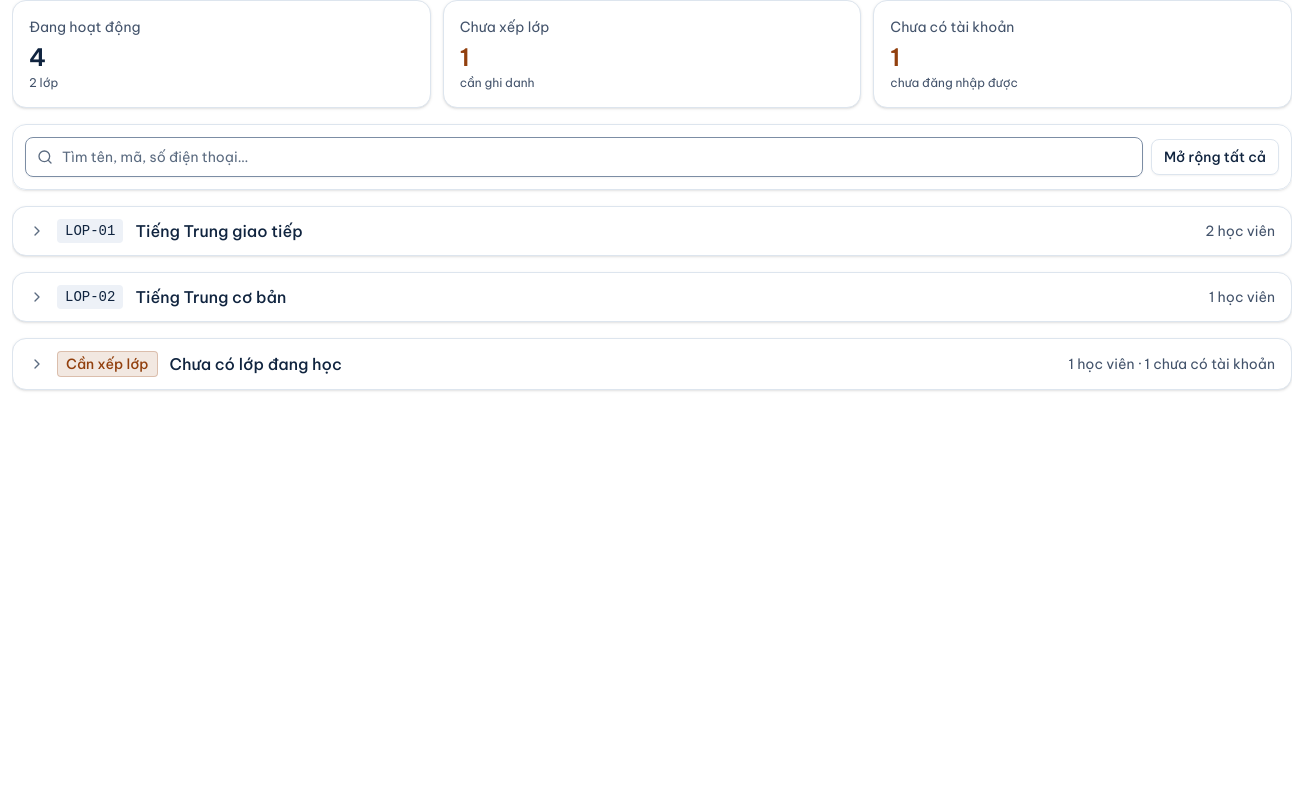
Scenario: danh bạ học viên gom theo lớp › không khớp gì thì nói rõ và cho đường lùi
The image size is (1304, 800).
In the search field named "Tìm học viên": coordinates (584, 157) [25,137,1143,177], type "khong-ai-ten-nay"
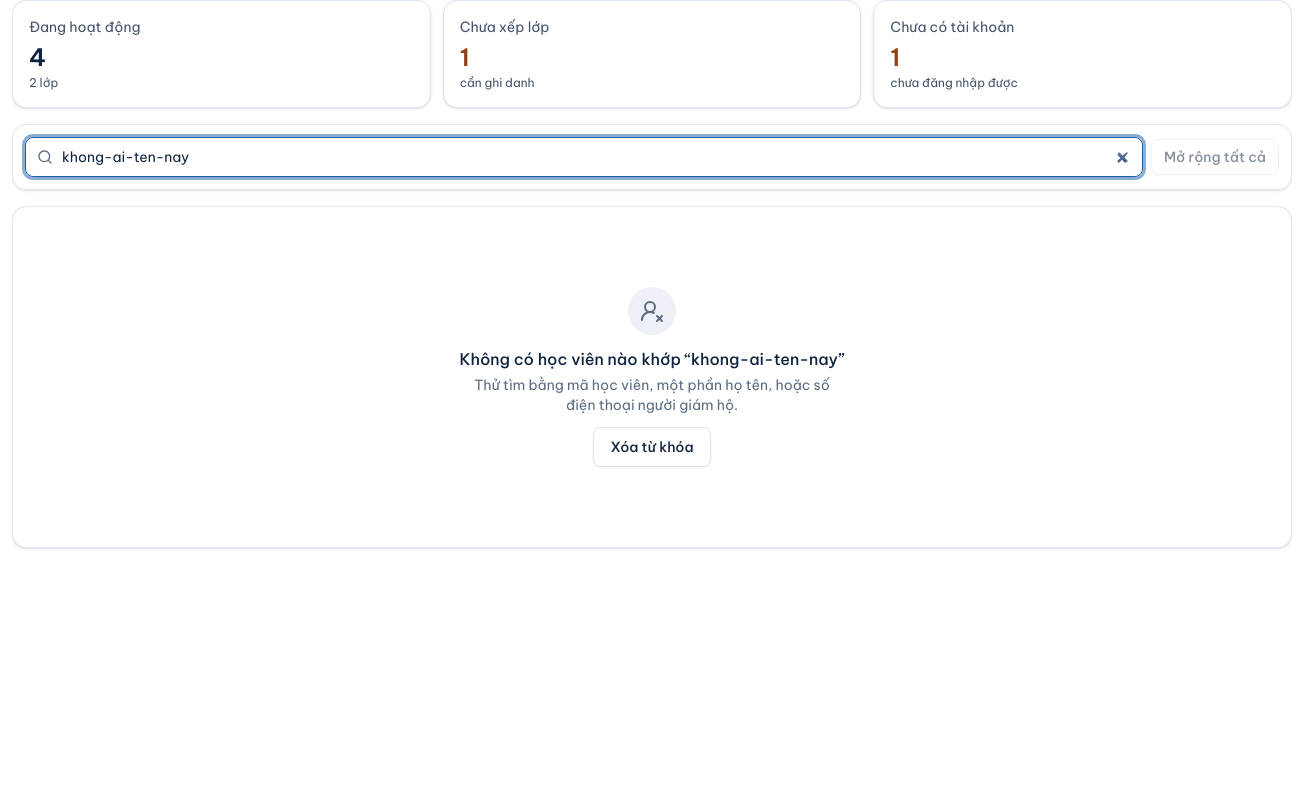
expect the text "Không có học viên nào khớp “khong-ai-ten-nay”" is shown: met, box [459,347,844,371]
Click the button "Xóa từ khóa": coordinates (652, 447) [594,427,711,467]
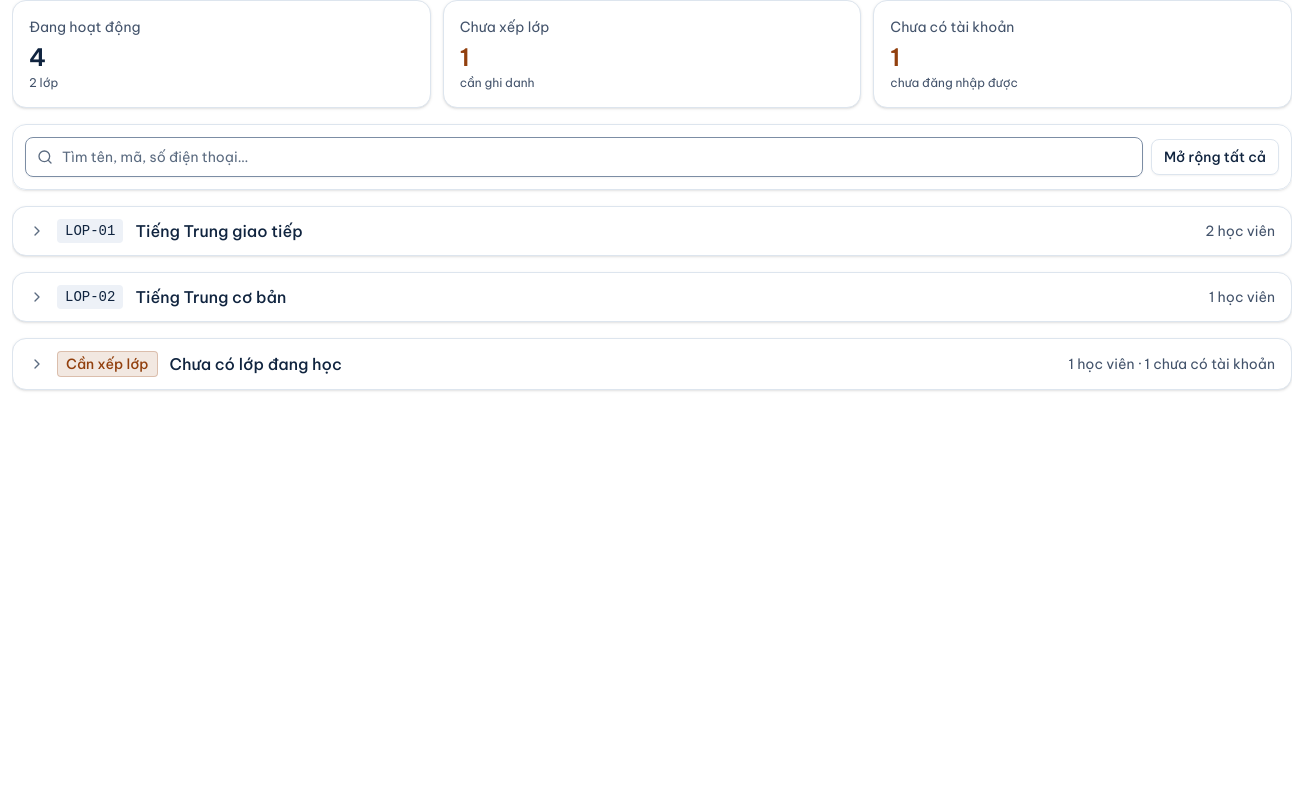
expect the button "LOP-01 Tiếng Trung giao tiếp 2 học viên" is shown: met, box [13,207,1291,255]
